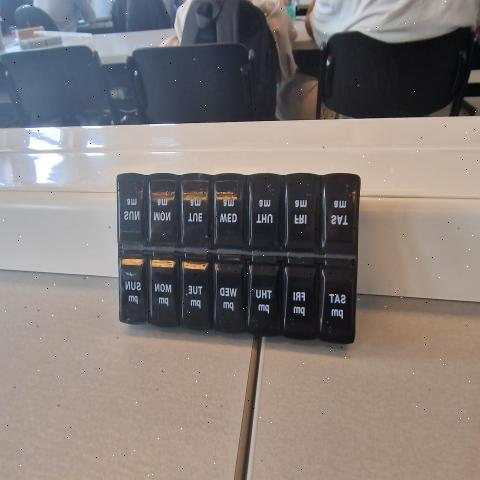PillBox: (86, 160, 370, 349)
